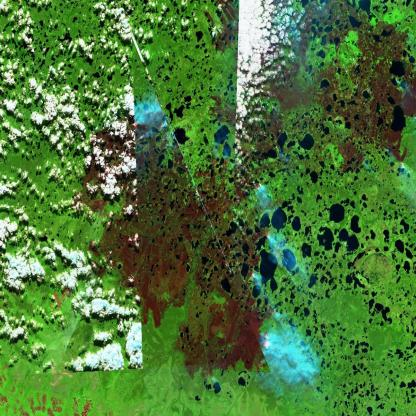fire: (240, 174, 281, 380), (124, 87, 172, 140), (390, 150, 412, 176)
